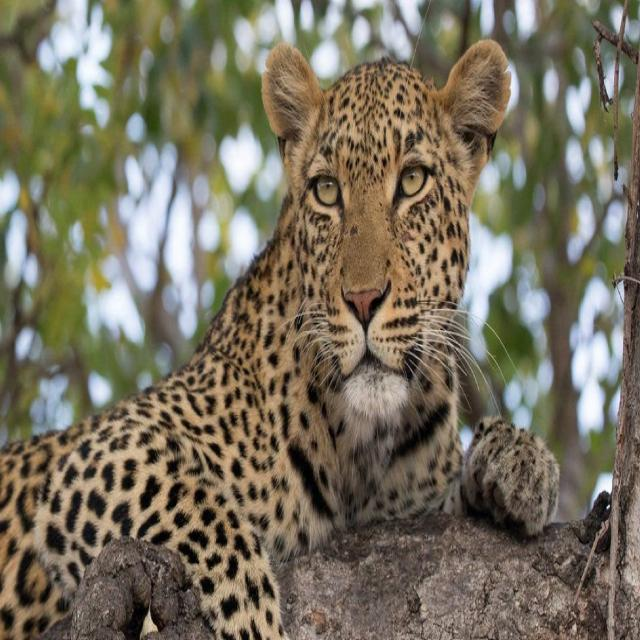Leopard: (0, 34, 511, 640)
